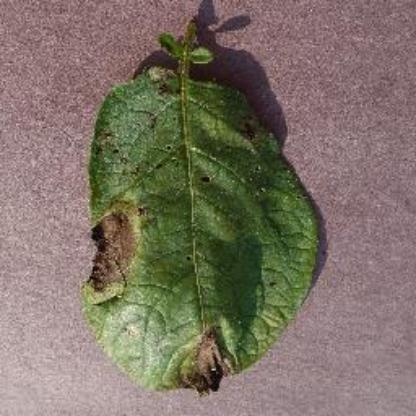Late-Blight: (86, 31, 328, 397)
